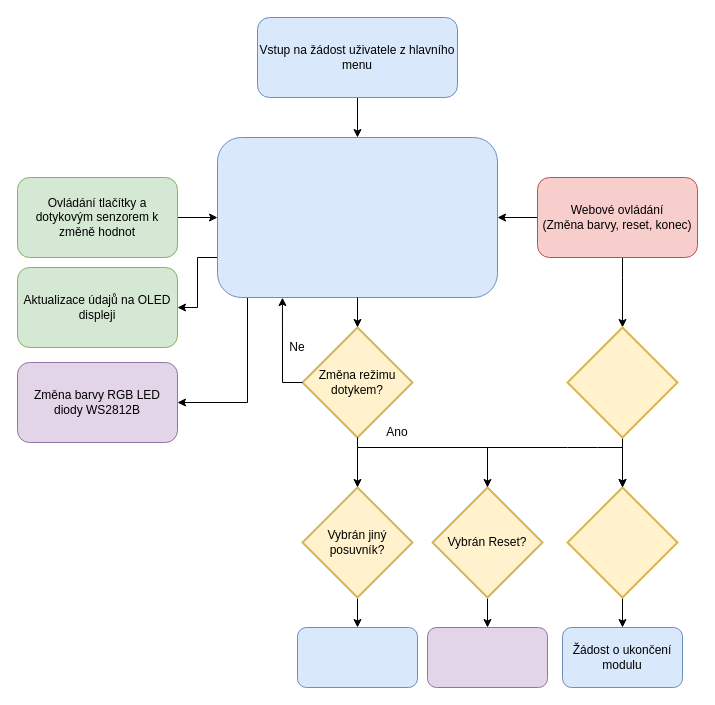
Image size: 715x705. Some labels were removed from this diagram. The centre of each missing label's shape, as x and y in pixels:
"Nastavení hodnot na 0" goes at point (487, 657).
"RGB Task" goes at point (357, 217).
"Vybrán Konec?" goes at point (622, 542).
"Změna výběru barevného kanálu" goes at point (357, 657).
"Žádost z webu?" goes at point (622, 382).
